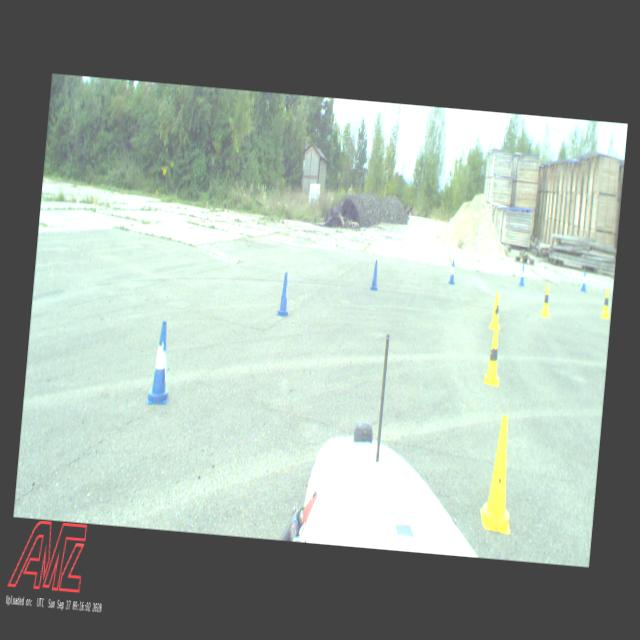blue_cone: (146, 320, 174, 406), (276, 272, 292, 317), (370, 260, 380, 290), (448, 260, 456, 284), (518, 264, 526, 286), (580, 270, 588, 290)
yellow_cone: (478, 412, 520, 534), (483, 328, 503, 386), (489, 291, 502, 329), (540, 284, 551, 316), (600, 288, 611, 318)
